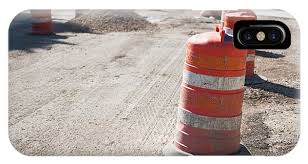barrel: (176, 32, 246, 151), (224, 13, 256, 75), (30, 6, 52, 35)
